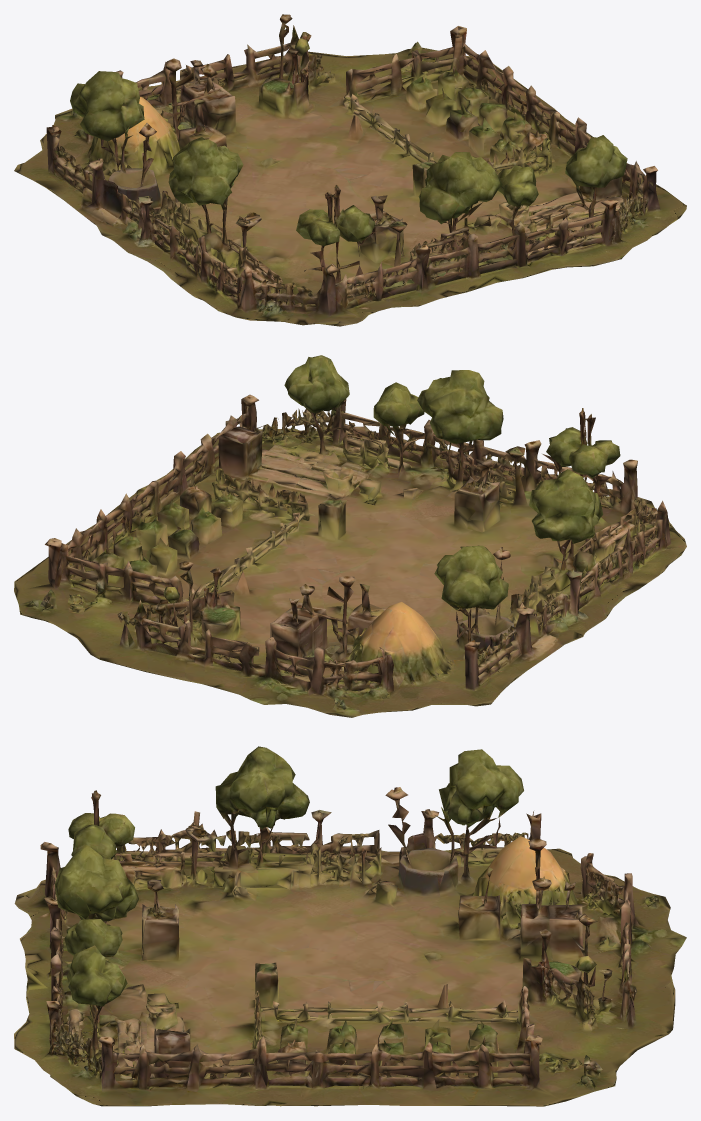
File: farm-homestead-terrain.glb
The picture shows the model from 3 angles, top to bottom: view 1: azimuth 30°, elevation 25°; view 2: azimuth 150°, elevation 25°; view 3: azimuth 270°, elevation 25°; orthographic projection. The views are drawn at different scales.
Parts seen in each view (by area): view 1: Mesh_0.001; view 2: Mesh_0.001; view 3: Mesh_0.001.
Part boxes in pixels (bbox=[...]): Mesh_0.001: bbox=[14, 14, 686, 326]; Mesh_0.001: bbox=[14, 355, 686, 717]; Mesh_0.001: bbox=[14, 746, 686, 1106].
Size of the model in its own units: 16.85 by 3.98 by 18.55.
1 material, 1 textured.
